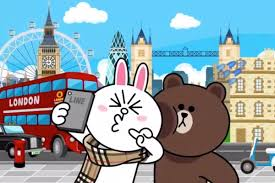line_brown: (145, 67, 237, 161)
